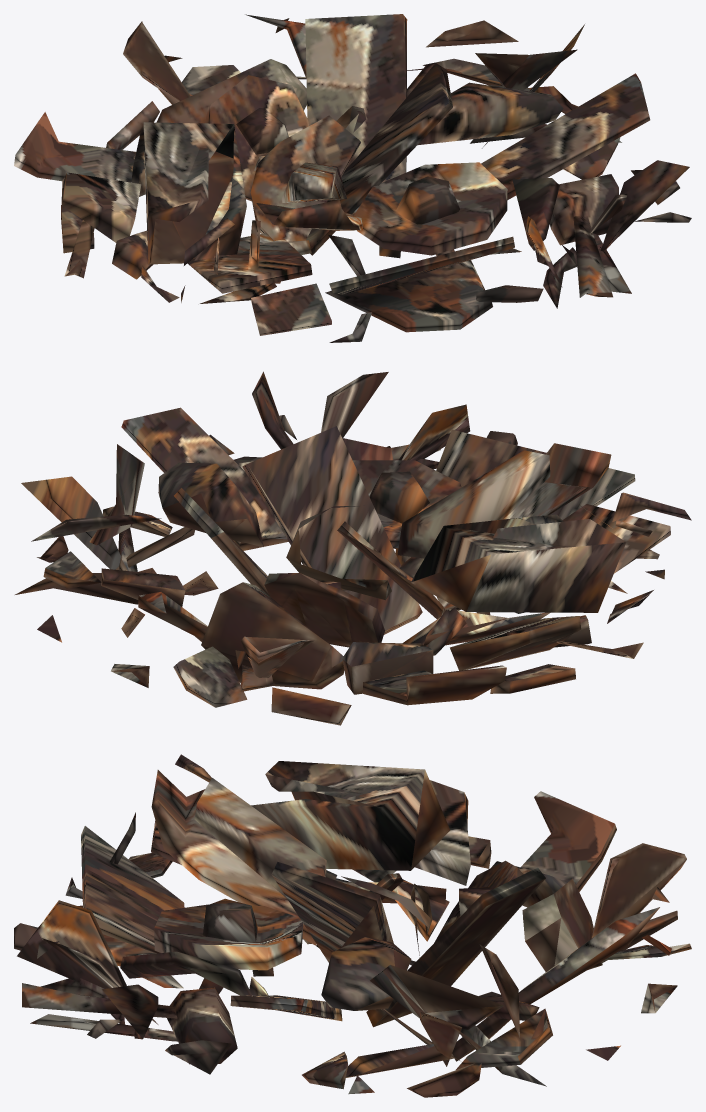
File: loot_scrap.glb
3 renders of one model, top to bottom at view 1: azimuth 30°, elevation 25°; view 2: azimuth 150°, elevation 25°; view 3: azimuth 270°, elevation 25°, orthographic. The views are drawn at different scales.
Visible parts, largest first — view 1: geometry_0; view 2: geometry_0; view 3: geometry_0.
Boxes of the visible parts, x1,y1,x2,y2 form: geometry_0: (14,14,691,342); geometry_0: (15,371,691,725); geometry_0: (14,754,691,1097).
Size of the model in its own units: 1 by 0.3014 by 1.
Materials: 1 (1 with a texture image).
